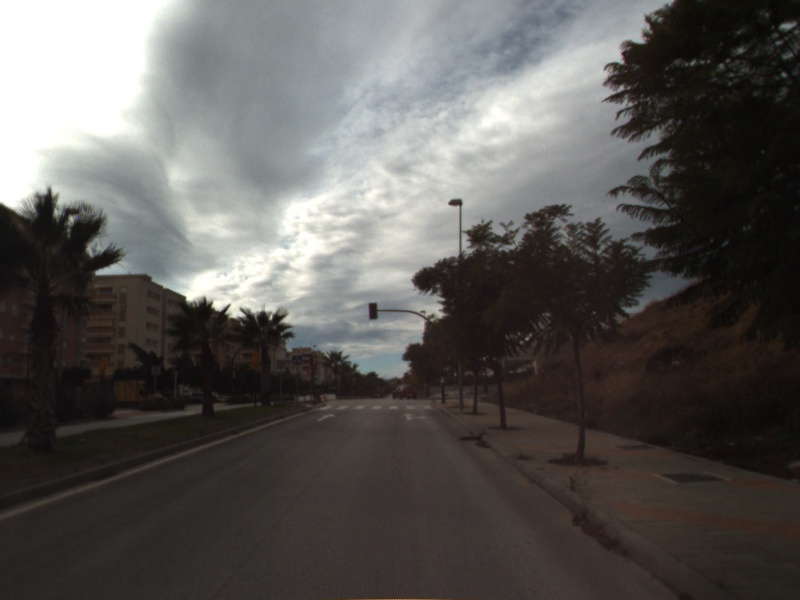STRAIGHT: (315, 411, 337, 423)
STRAIGHT_RIGHT: (400, 411, 429, 423)
